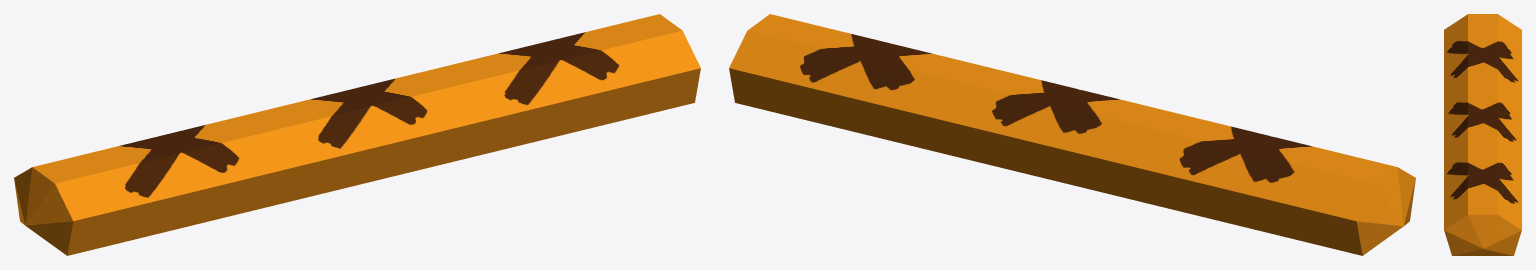
Rendered from yut-rhino.glb.
3 renders of one model, left to right at view 1: azimuth 30°, elevation 25°; view 2: azimuth 150°, elevation 25°; view 3: azimuth 270°, elevation 25°, orthographic. The views are drawn at different scales.
Visible parts, largest first — view 1: Cylinder.002; view 2: Cylinder.002; view 3: Cylinder.002.
Boxes of the visible parts, box(x1,y1,x2,y2) form: Cylinder.002: box(14, 14, 700, 255); Cylinder.002: box(729, 14, 1415, 255); Cylinder.002: box(1444, 14, 1521, 255).
Size of the model in its own units: 10.36 by 0.9511 by 1.62.
2 materials, 2 textured.
